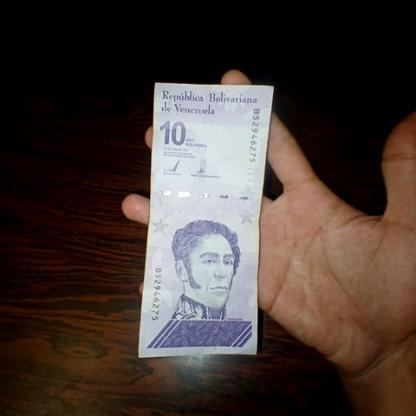vef_front: (140, 81, 274, 358)
